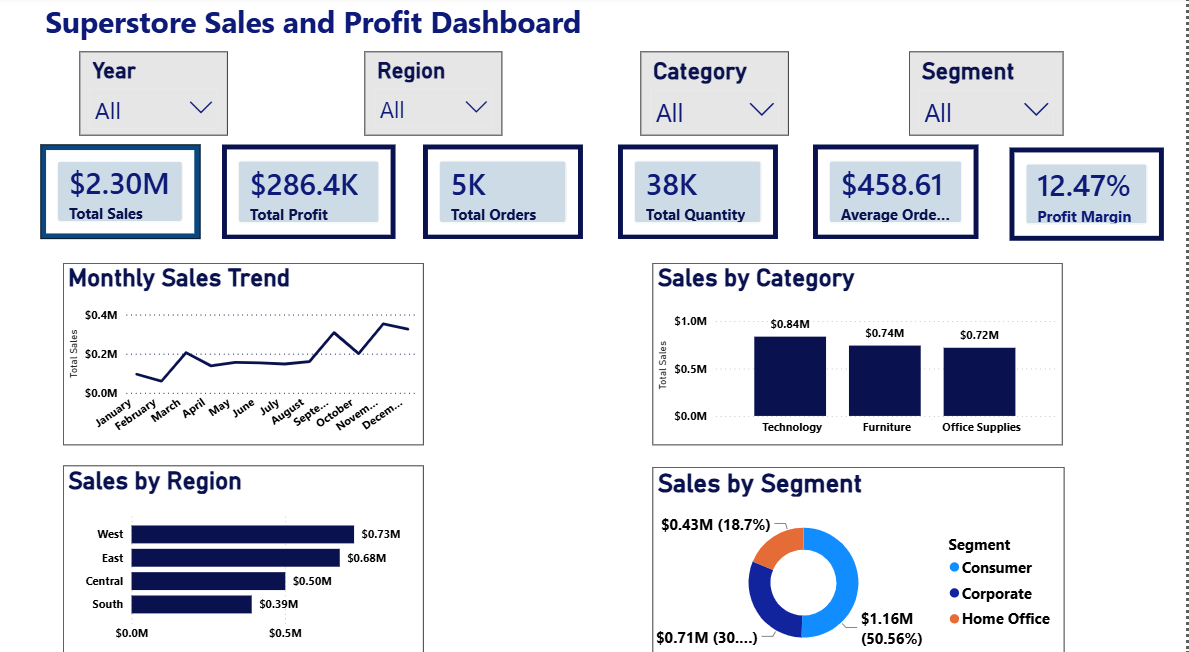

Layout of this report page (visuals, bound fields, positions):
{"tool":"powerbi","page":{"name":"Page 1","canvas":[1280,720],"ordinal":0},"visuals":[{"type":"cardVisual","fields":{"Data":["Sales_Data_Cleaned.Total Sales"]},"box":[43.9,160.8,172.5,102.3],"z":0},{"type":"cardVisual","fields":{"Data":["Sales_Data_Cleaned.Total Profit"]},"box":[239.7,160.8,187.1,102.3],"z":1},{"type":"cardVisual","fields":{"Data":["Sales_Data_Cleaned.Total Orders"]},"box":[456.1,160.8,172.5,102.3],"z":2},{"type":"cardVisual","fields":{"Data":["Sales_Data_Cleaned.Total Quantity"]},"box":[666.6,160.8,172.5,102.3],"z":3},{"type":"cardVisual","fields":{"Data":["Sales_Data_Cleaned.Average Order Value"]},"box":[877.1,160.8,178.3,102.3],"z":4},{"type":"cardVisual","fields":{"Data":["Sales_Data_Cleaned.Profit Margin"]},"box":[1089.7,163.5,166.8,100.4],"z":5},{"type":"lineChart","title":"Monthly Sales Trend ","fields":{"Y":["Sales_Data_Cleaned.Total Sales"],"Category":["Sales_Data_Cleaned.Order Date.Variation.Date Hierarchy.Month"]},"box":[67.4,288.9,389,196.4],"z":6},{"type":"clusteredColumnChart","title":"Sales by Category ","fields":{"Category":["Sales_Data_Cleaned.Category"],"Y":["Sales_Data_Cleaned.Total Sales"]},"box":[704.8,288.9,442.9,196.4],"z":7},{"type":"clusteredBarChart","title":" Sales by Region","fields":{"Category":["Sales_Data_Cleaned.Region"],"Y":["Sales_Data_Cleaned.Total Sales"]},"box":[67.4,506.5,389,209.9],"z":8},{"type":"donutChart","title":" Sales by Segment","fields":{"Y":["Sales_Data_Cleaned.Total Sales"],"Category":["Sales_Data_Cleaned.Segment"]},"box":[704.8,508.4,444.9,208],"z":9},{"type":"textbox","box":[43.9,0,944.3,78.9],"z":11},{"type":"slicer","fields":{"Values":["Sales_Data_Cleaned.Order Date.Variation.Date Hierarchy.Year"]},"box":[85.8,59.9,160.3,90.7],"z":12},{"type":"slicer","fields":{"Values":["Sales_Data_Cleaned.Region"]},"box":[393.5,59.9,149,90.7],"z":13},{"type":"slicer","fields":{"Values":["Sales_Data_Cleaned.Category"]},"box":[691.4,59.9,160.3,90.7],"z":14},{"type":"slicer","fields":{"Values":["Sales_Data_Cleaned.Segment"]},"box":[981.3,59.9,166.8,90.7],"z":15}]}

Visuals, with their boxes in screenshot pixels (x1, y1, x2, y2), scaled from the page's 1280x720 canvas onto the 1189x652 screenshot:
cardVisual - Sales_Data_Cleaned.Total Sales: rect(41, 146, 201, 238)
cardVisual - Sales_Data_Cleaned.Total Profit: rect(223, 146, 396, 238)
cardVisual - Sales_Data_Cleaned.Total Orders: rect(424, 146, 584, 238)
cardVisual - Sales_Data_Cleaned.Total Quantity: rect(619, 146, 779, 238)
cardVisual - Sales_Data_Cleaned.Average Order Value: rect(815, 146, 980, 238)
cardVisual - Sales_Data_Cleaned.Profit Margin: rect(1012, 148, 1167, 239)
"Monthly Sales Trend " lineChart: rect(63, 262, 424, 439)
"Sales by Category " clusteredColumnChart: rect(655, 262, 1066, 439)
" Sales by Region" clusteredBarChart: rect(63, 459, 424, 649)
" Sales by Segment" donutChart: rect(655, 460, 1068, 649)
textbox: rect(41, 0, 918, 71)
slicer - Sales_Data_Cleaned.Order Date.Variation.Date Hierarchy.Year: rect(80, 54, 229, 136)
slicer - Sales_Data_Cleaned.Region: rect(366, 54, 504, 136)
slicer - Sales_Data_Cleaned.Category: rect(642, 54, 791, 136)
slicer - Sales_Data_Cleaned.Segment: rect(912, 54, 1066, 136)
